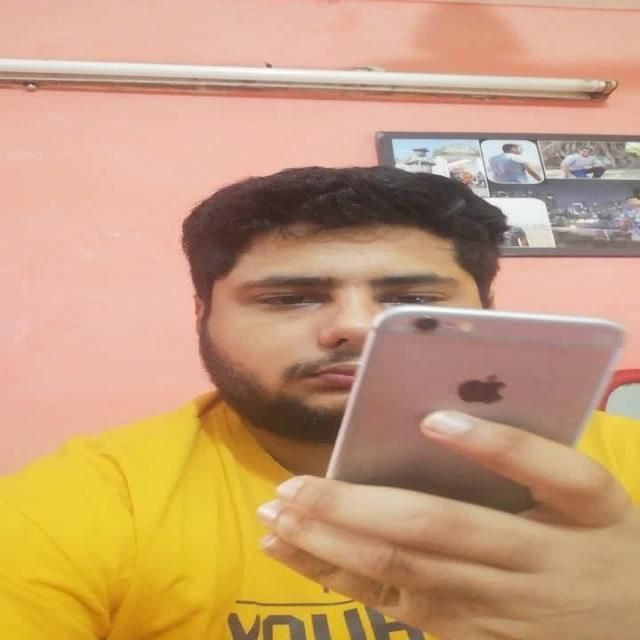Phone: (327, 308, 629, 490)
